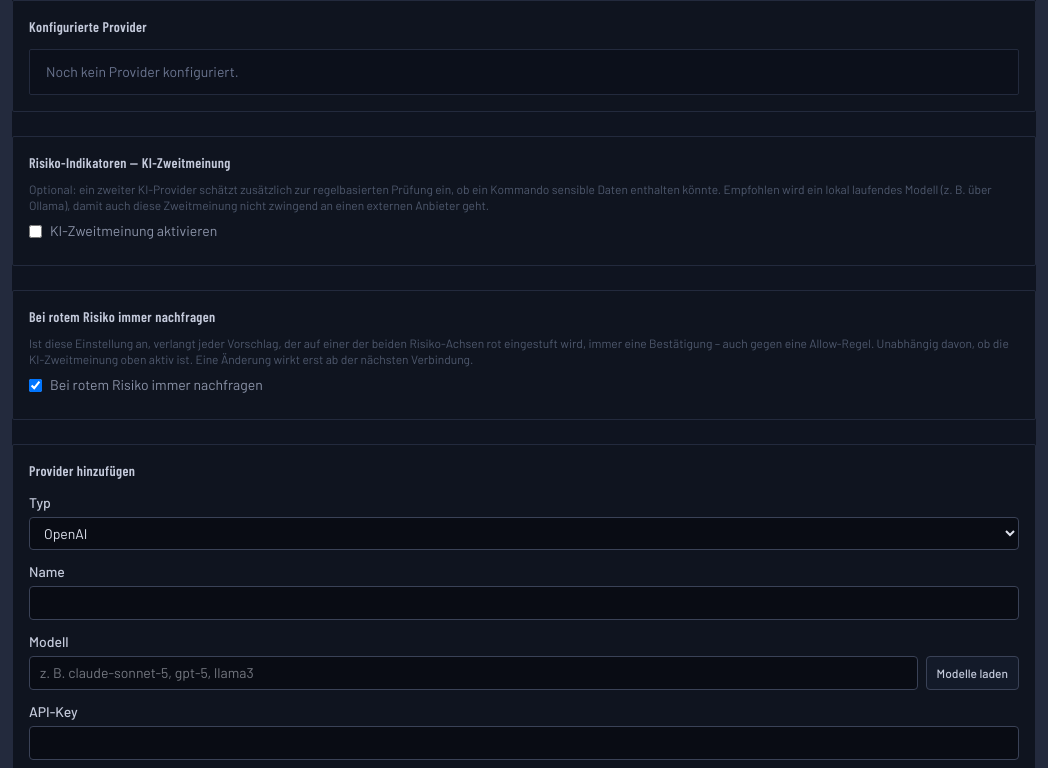
Test: AiProviderSettings credentials test button (Spec 0050, Teil 3) › stays disabled for a generic OpenAI-compatible provider until the base URL is filled in, even with a key entered
The image size is (1048, 768).
Select "Generisch (OpenAI-kompatibel)" in the dropdown labelled "Typ" at point(524, 534), box [29,517,1019,550]
(page scrolled)
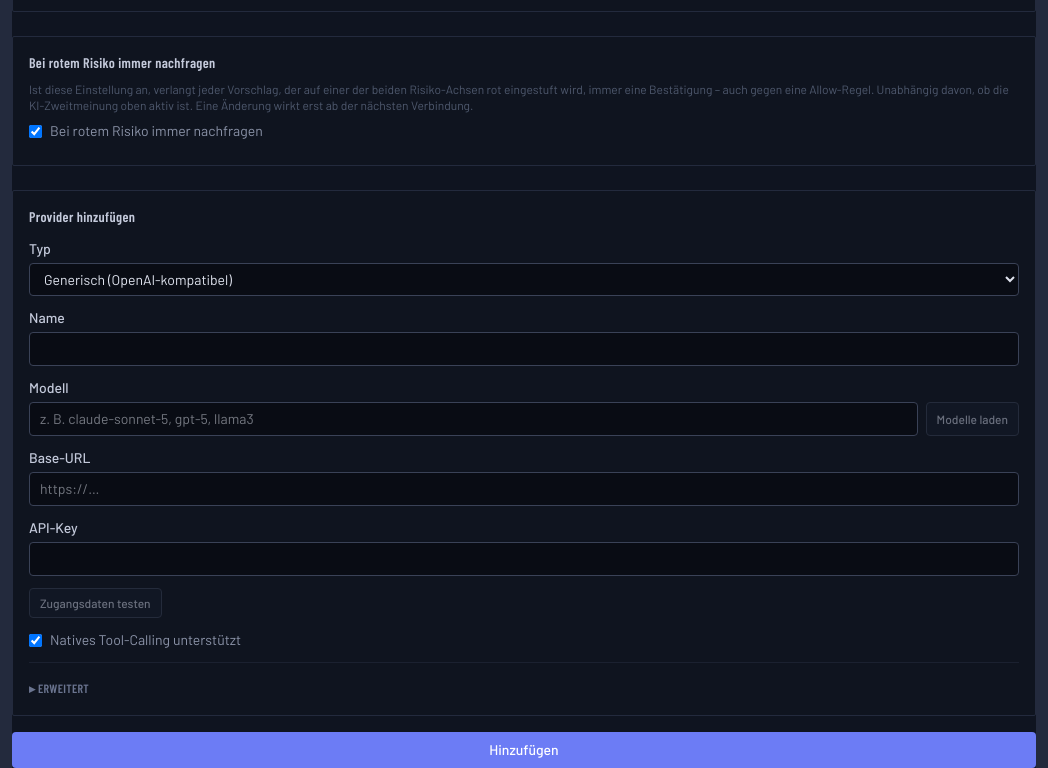
Type "sk-abc" into the password field labelled "API-Key" at point(524, 559), box [29,542,1019,576]
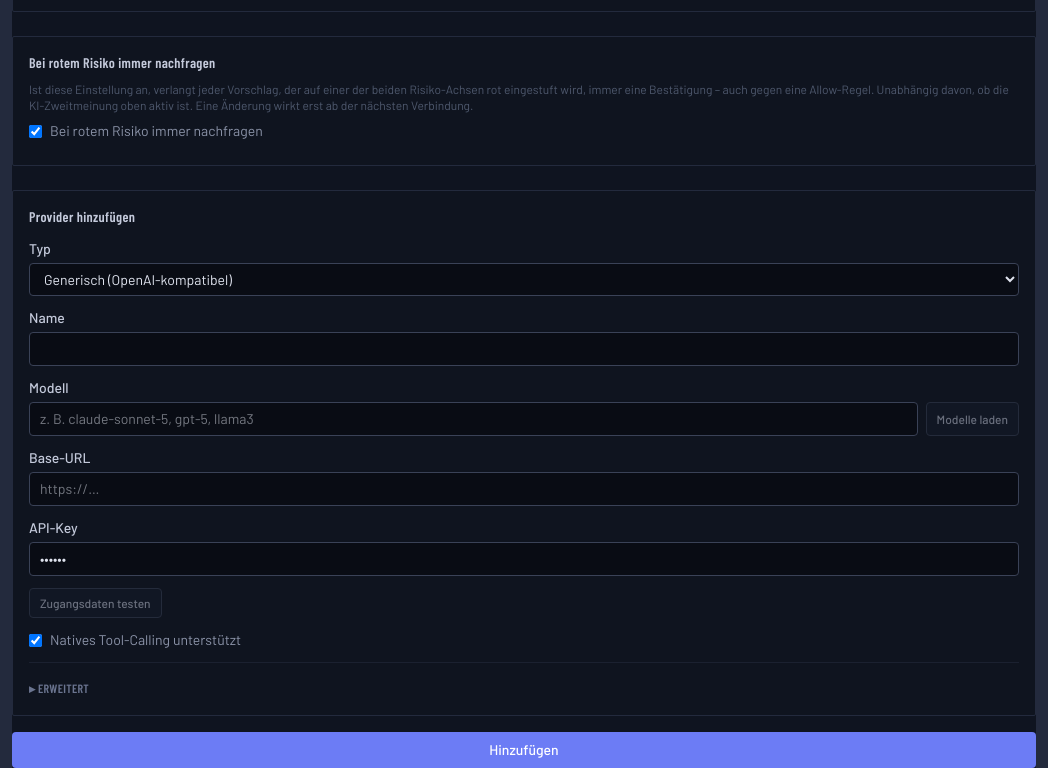
Expected: the button "Zugangsdaten testen" is disabled, [29,588,162,618]
Type "https://my-gateway.example/v1" into the field labelled "Base-URL" at point(524, 489), box [29,472,1019,506]
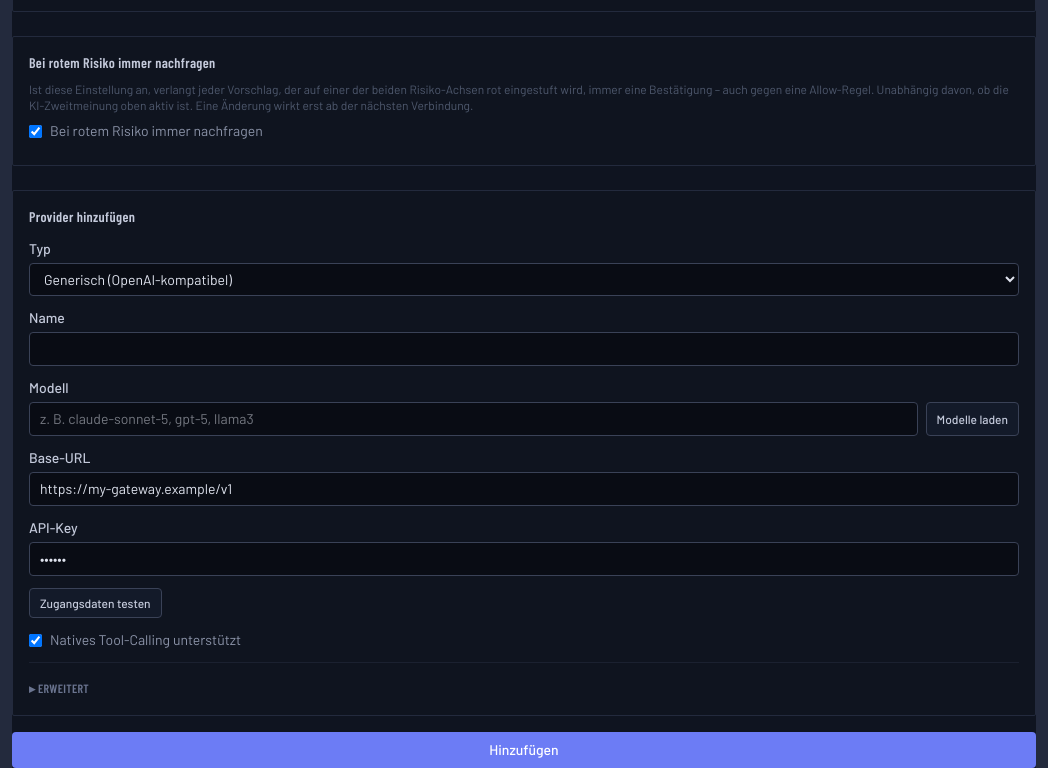
Now the button "Zugangsdaten testen" is enabled, box [29,588,162,618]
